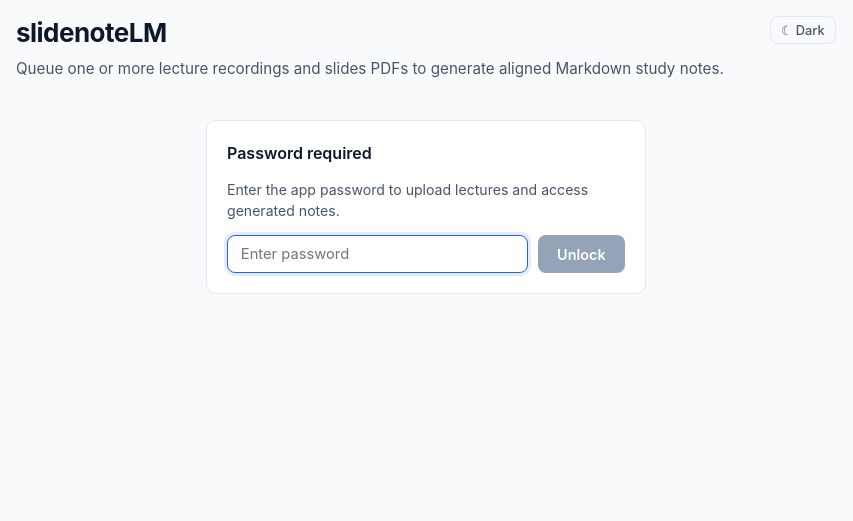
Test: slidenoteLM App › shows password gate when auth is required, handles invalid password, unlocks on valid login, and signs out
Check: the button "Unlock" is disabled, box [538,235,625,273]
Invalid password attempt
Step 1. Type "wrong-pass" into the password field labelled "password" → x=378, y=254, box [227,235,528,273]
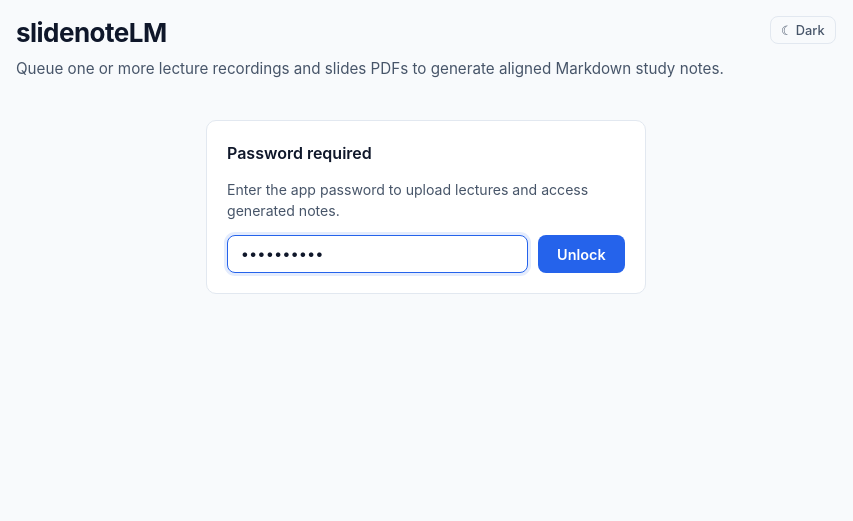
Check: the button "Unlock" is enabled
Step 2. Click the button "Unlock" → x=581, y=254, box [538,235,625,273]
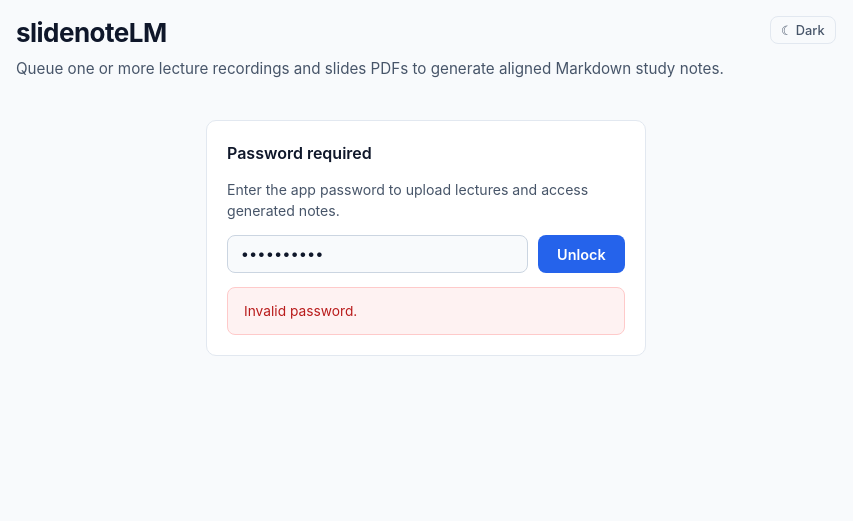
Check: the message reads "Invalid password.", box [244,303,357,319]
Valid password attempt
Step 3. Type "correct-pass" into the password field named "password" → x=378, y=254, box [227,235,528,273]
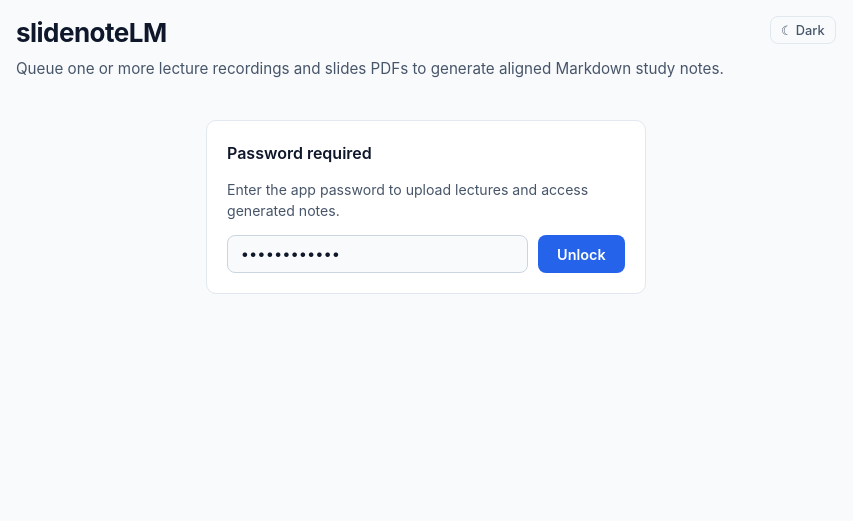
Step 4. Click the button "Unlock" → x=581, y=254, box [538,235,625,273]
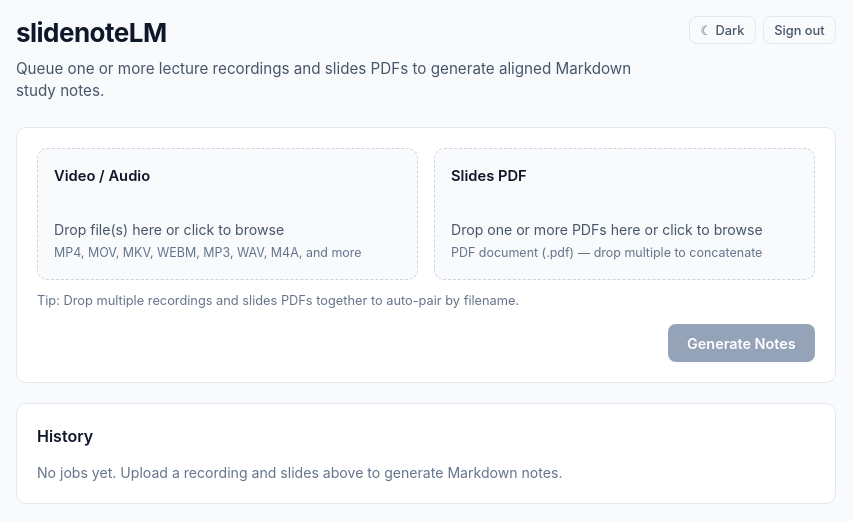
Check: the button named "Video / Audio file input" is shown, box [37,148,418,280]
Check: the button "Sign out" is shown
Sign out returns to locked gate
Step 5. Click the button "Sign out" → x=799, y=30, box [763,16,836,44]
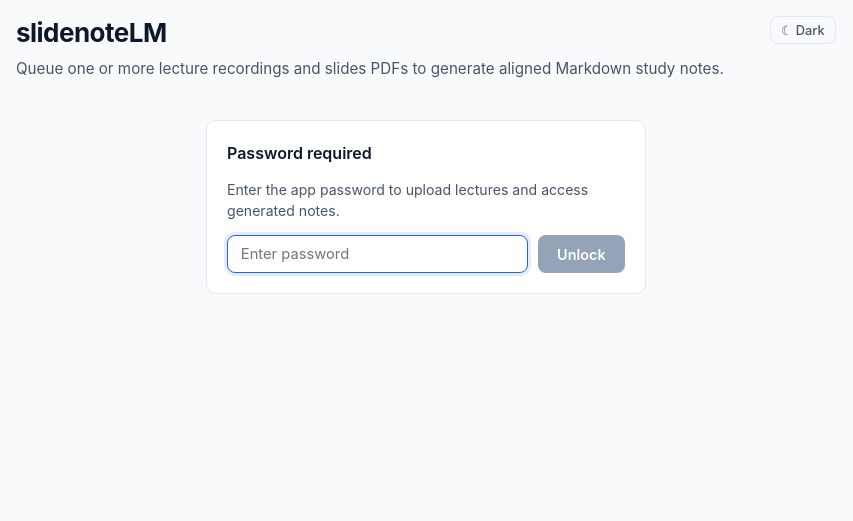
Check: the password field labelled "password" is shown, box [227,235,528,273]
Check: the button "Sign out" is gone
